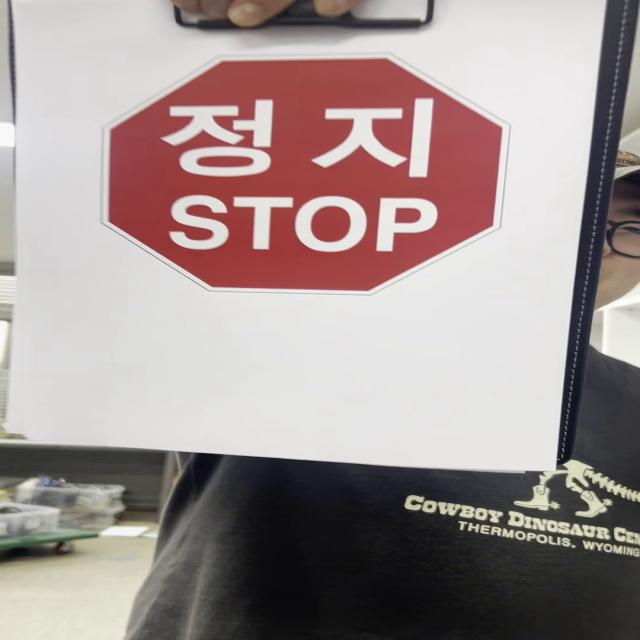stop: (102, 54, 509, 299)
